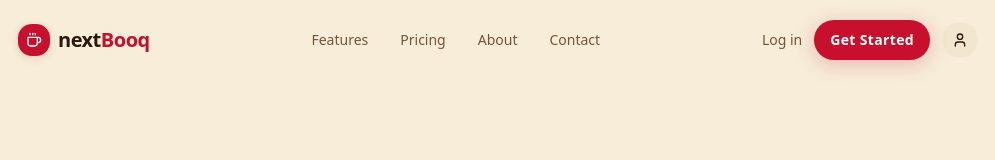
it: MarketingHeader › shows an account menu offering only Log in for a signed-out visitor
Click the button named "account menu": [960, 40] box [942,22,978,58]
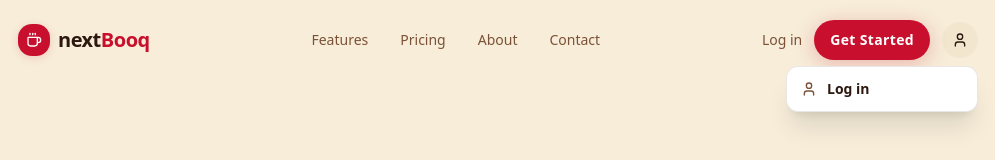
Expected: the link "Get Started" is shown, [814,20,930,60]
Now the number of menu items is 1, box [801,79,870,98]
Now the menu item reads "Log in", box [801,79,870,98]
